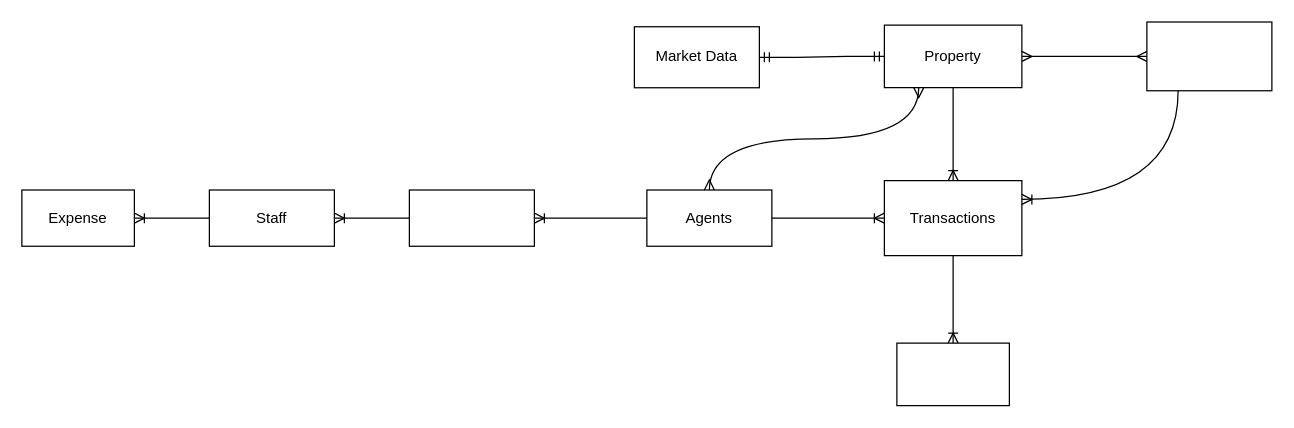
The diagram is 1294 pixels wide and 428 high, and some of its shapes have lost their labels. The box of each missing label's shape, as (x1, y1, x2, y2) in pixels:
Agencies: (408, 189, 534, 246)
Clients: (1146, 21, 1272, 91)
Fees: (896, 342, 1009, 406)
